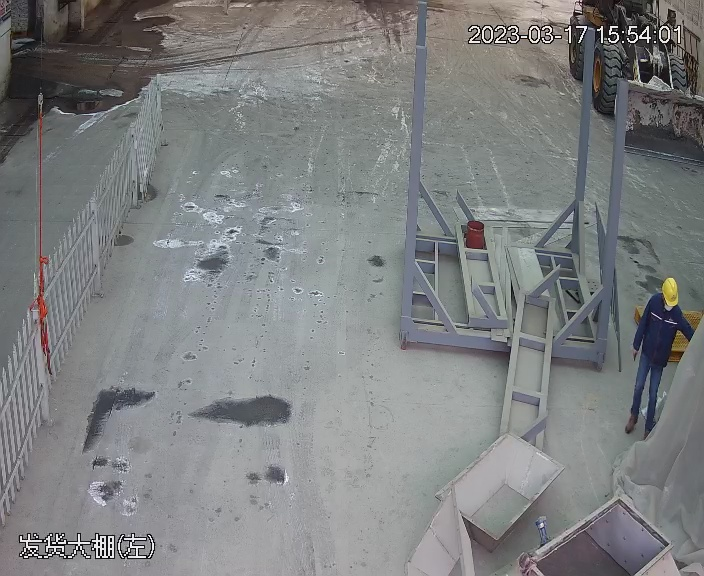head: (641, 277, 686, 323)
helmet: (660, 277, 682, 305)
people: (625, 276, 695, 440)
